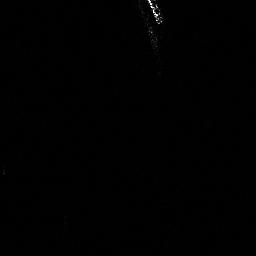ship: (144, 1, 166, 25)
